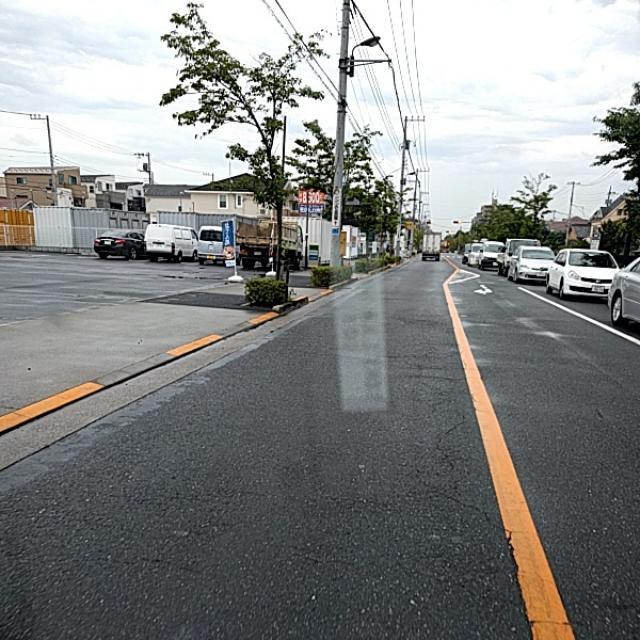pothole: (416, 442, 546, 592)
